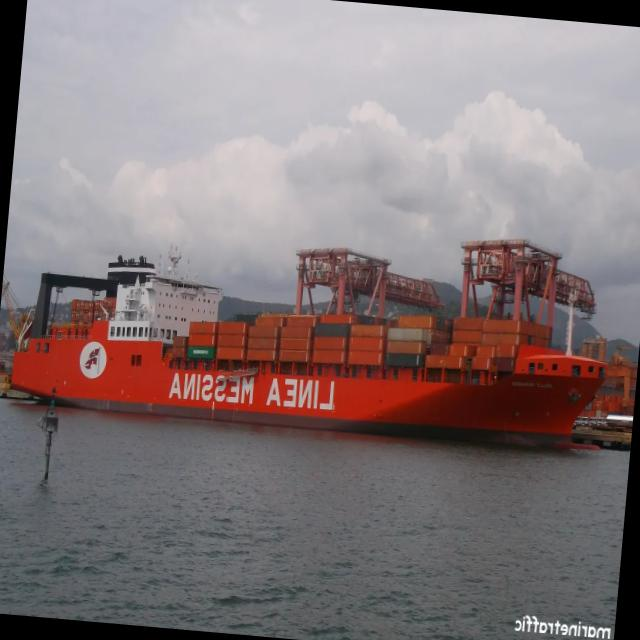Cargo: (12, 247, 606, 444)
